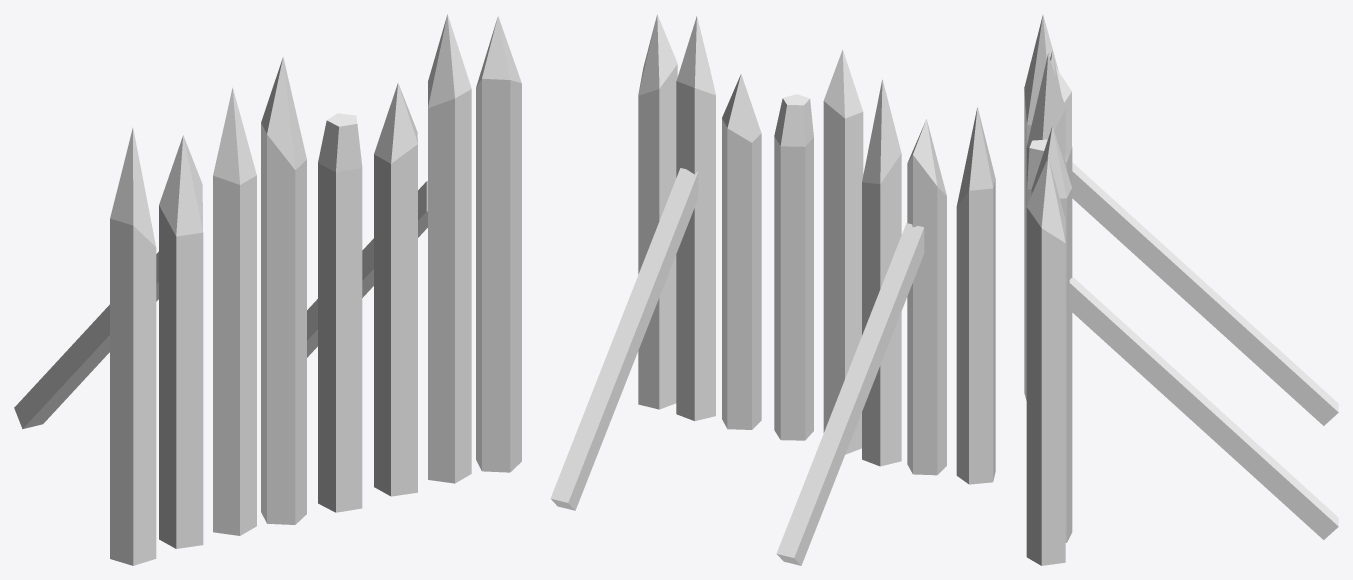
The model's file is BrokenWall.fbx.
3 renders of one model, left to right at view 1: azimuth 30°, elevation 25°; view 2: azimuth 150°, elevation 25°; view 3: azimuth 270°, elevation 25°, orthographic. The views are drawn at different scales.
Visible parts, largest first — view 1: node_id24, node_id6, node_id9, node_id18, node_id27, node_id15, node_id21, node_id12, node_id33, node_id30; view 2: node_id9, node_id15, node_id18, node_id12, node_id24, node_id21, node_id6, node_id27, node_id33, node_id30; view 3: node_id6, node_id30, node_id33, node_id9, node_id18, node_id24, node_id15, node_id27, node_id21.
Part boxes in pixels (x1,y1,x2,y2): node_id24: (261, 57, 306, 524); node_id6: (476, 16, 521, 472); node_id9: (428, 14, 471, 483); node_id18: (110, 128, 156, 565); node_id27: (213, 87, 256, 535); node_id15: (318, 113, 362, 512); node_id21: (159, 135, 203, 548); node_id12: (374, 83, 417, 496); node_id33: (14, 251, 158, 429); node_id30: (307, 181, 427, 357); node_id9: (676, 16, 715, 421); node_id15: (774, 94, 813, 440); node_id18: (956, 106, 995, 484); node_id12: (722, 74, 761, 429); node_id24: (823, 49, 863, 454); node_id21: (907, 119, 946, 475); node_id6: (638, 14, 677, 409); node_id27: (862, 79, 901, 466); node_id33: (776, 223, 924, 565); node_id30: (550, 168, 698, 510); node_id6: (1026, 157, 1065, 565); node_id30: (1069, 276, 1338, 539); node_id33: (1072, 162, 1338, 425); node_id9: (1031, 126, 1072, 542); node_id18: (1024, 14, 1058, 400); node_id24: (1026, 53, 1065, 205); node_id15: (1027, 139, 1047, 204); node_id27: (1050, 51, 1072, 187); node_id21: (1056, 68, 1071, 144).
Bounding box in the file's own units: 0.4761 × 0.512 × 0.3555.
Materials: 10 (1 with a texture image).
